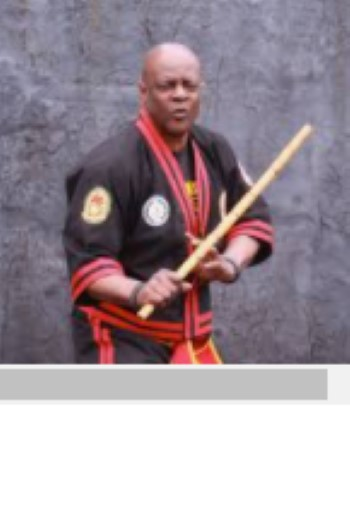baston_e: (165, 150, 306, 298)
baston_v: (284, 105, 320, 151), (126, 292, 158, 328)
